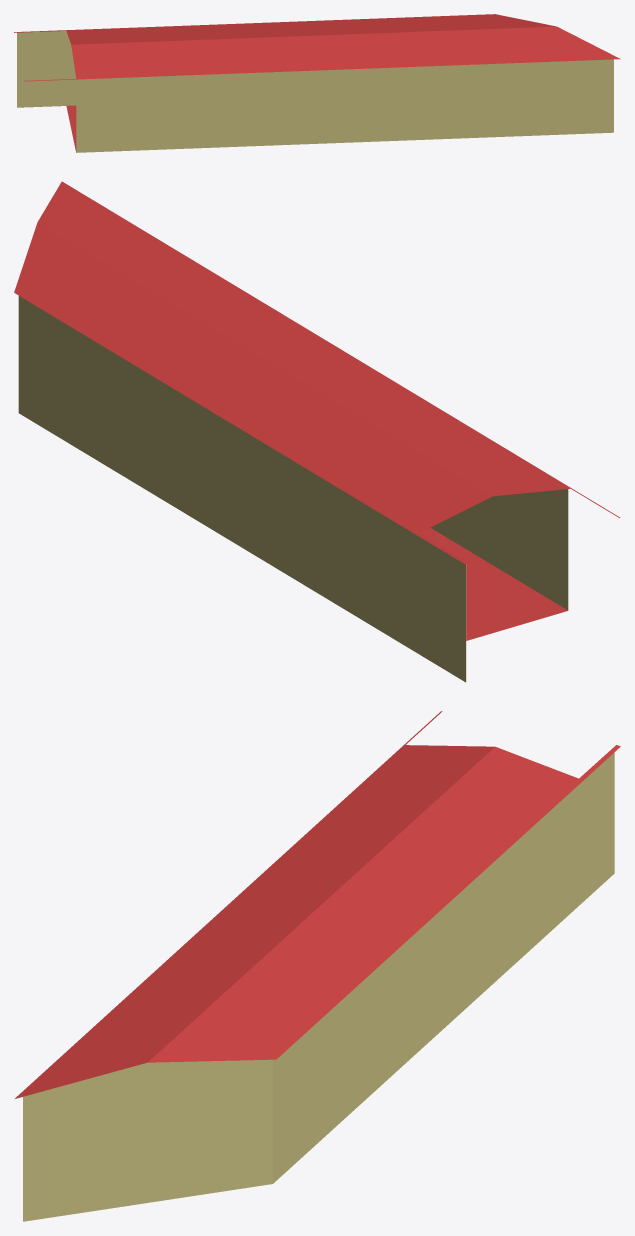
The picture shows the model from 3 angles, top to bottom: view 1: azimuth 30°, elevation 25°; view 2: azimuth 150°, elevation 25°; view 3: azimuth 270°, elevation 25°; orthographic projection. The views are drawn at different scales.
Bounding box in the file's own units: 48.64 × 32.14 × 8.32.
